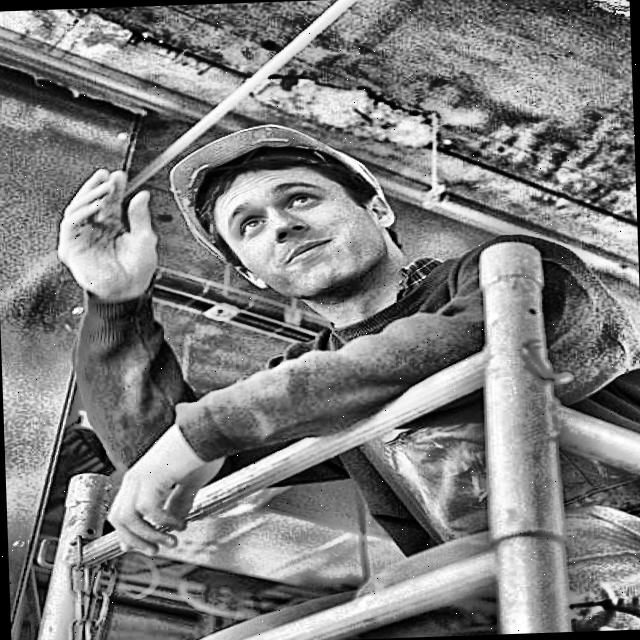helmet: (166, 118, 394, 301)
